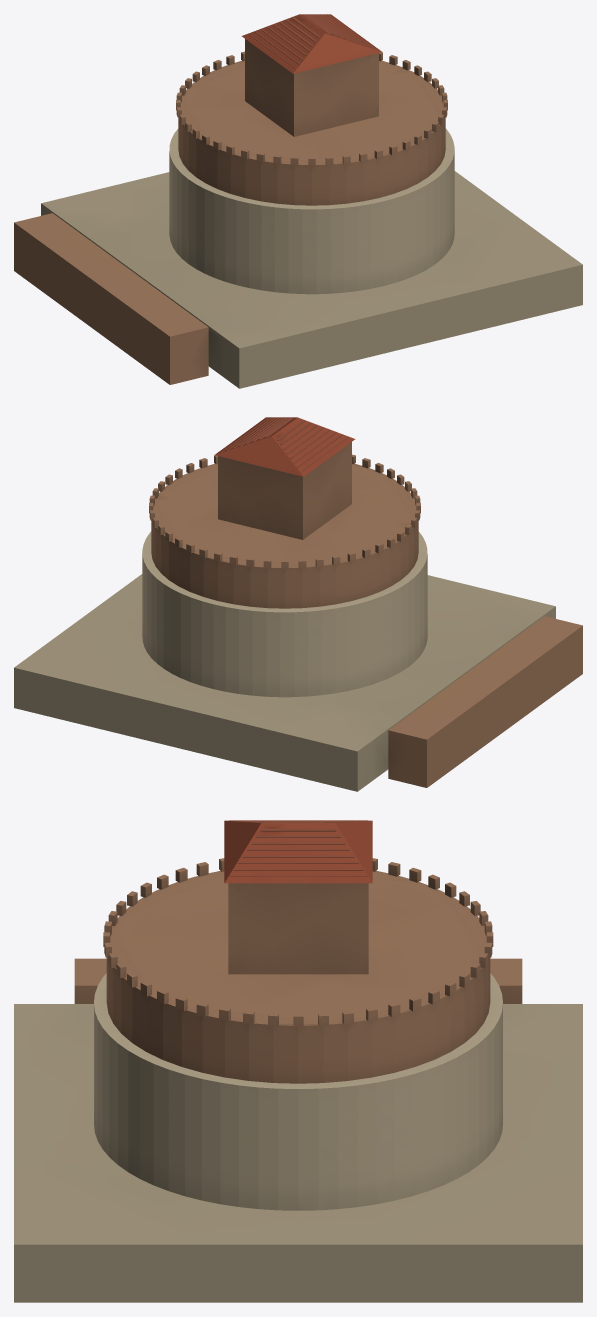
Rendered from castel-santangelo-late.glb.
3 views of the same model, one above another, from view 1: azimuth 30°, elevation 25°; view 2: azimuth 150°, elevation 25°; view 3: azimuth 270°, elevation 25° (orthographic). The views are drawn at different scales.
Parts seen in each view (by area): view 1: p0_base, p1_drum, p2_castle; view 2: p0_base, p1_drum, p2_castle; view 3: p1_drum, p0_base, p2_castle.
Boxes of the visible parts, x1,y1,x2,y2 form: p0_base: [14, 171, 582, 388]; p1_drum: [169, 51, 454, 294]; p2_castle: [241, 14, 381, 136]; p0_base: [14, 574, 582, 791]; p1_drum: [142, 454, 427, 697]; p2_castle: [215, 417, 355, 539]; p1_drum: [94, 858, 502, 1210]; p0_base: [14, 958, 582, 1302]; p2_castle: [224, 820, 372, 974].
Size of the model in its own units: 102 by 62 by 89.
